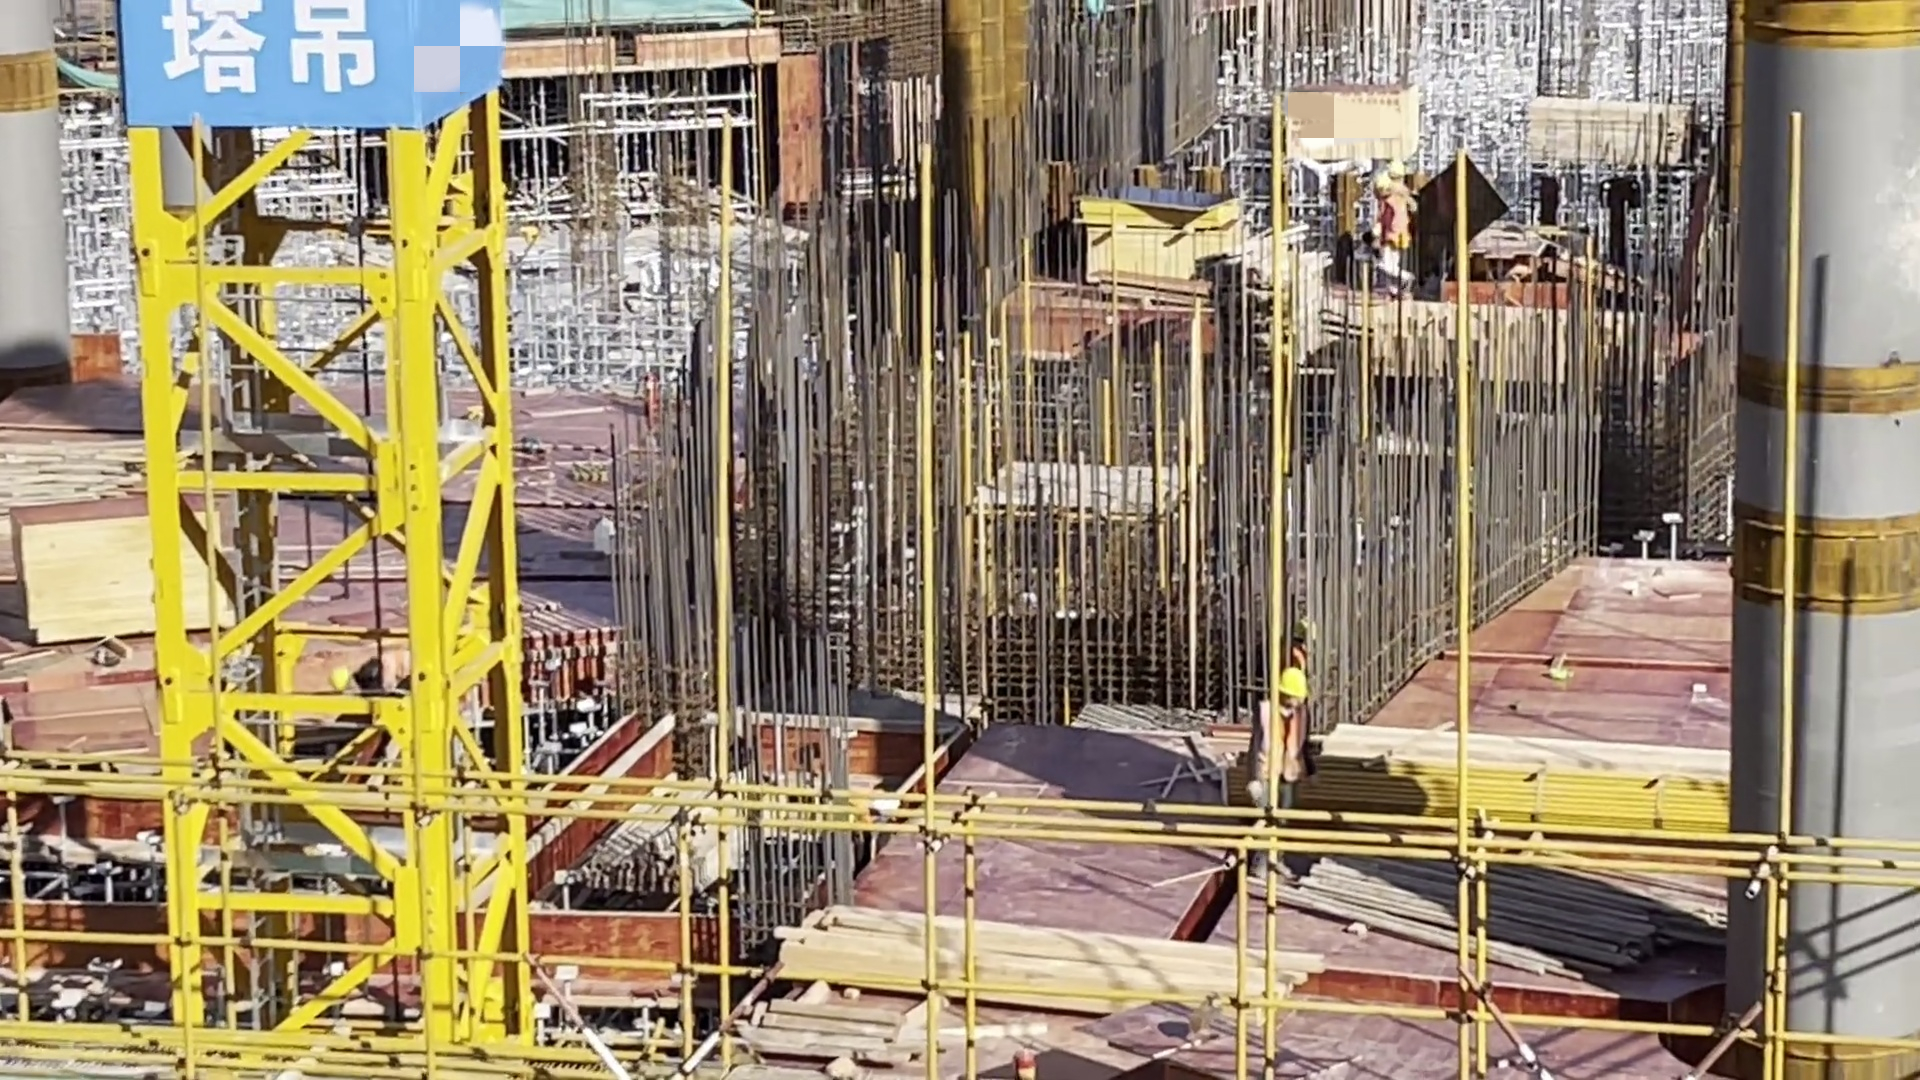board: (3, 494, 261, 632), (1293, 61, 1434, 162), (1527, 95, 1699, 173)
helmet: (329, 661, 369, 692), (1276, 669, 1307, 698), (1291, 620, 1321, 641), (1369, 176, 1386, 194), (1390, 159, 1402, 182)
person: (1241, 675, 1313, 838), (344, 631, 448, 743), (1283, 606, 1338, 678), (1371, 174, 1397, 296), (1392, 157, 1425, 227)
vest: (1249, 709, 1308, 776), (379, 636, 413, 711), (1374, 199, 1406, 264), (1399, 187, 1421, 227), (1296, 644, 1319, 671)
wood: (784, 872, 1366, 996), (1226, 237, 1351, 352)
